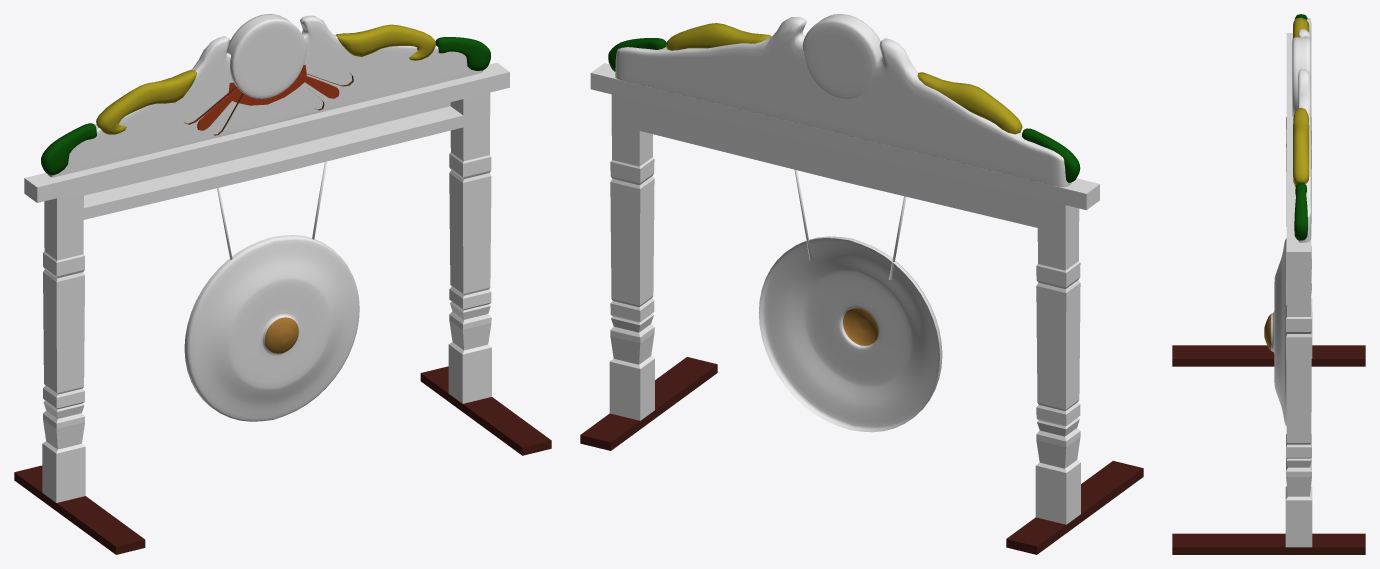
File: gong.fbx
3 renders of one model, left to right at view 1: azimuth 30°, elevation 25°; view 2: azimuth 150°, elevation 25°; view 3: azimuth 270°, elevation 25°, orthographic. The views are drawn at different scales.
Visible parts, largest first — view 1: Cube, Cube.001, Cube.002, Cylinder, Cube.003, Circle, Plane; view 2: Cube, Cube.001, Cube.002, Cylinder, Cube.003, Circle; view 3: Cube, Cube.001, Cube.003, Cube.002, Cylinder, Circle.
Part boxes in pixels (left/top/right/bottom): Cube: left=14, top=62, right=551, bottom=554; Cube.001: left=184, top=235, right=359, bottom=421; Cube.002: left=47, top=15, right=482, bottom=177; Cylinder: left=226, top=14, right=306, bottom=98; Cube.003: left=96, top=24, right=435, bottom=134; Circle: left=41, top=37, right=490, bottom=175; Plane: left=184, top=71, right=353, bottom=135; Cube: left=580, top=63, right=1143, bottom=554; Cube.001: left=758, top=236, right=942, bottom=432; Cube.002: left=615, top=17, right=1071, bottom=187; Cylinder: left=802, top=14, right=881, bottom=98; Cube.003: left=666, top=23, right=1022, bottom=134; Circle: left=608, top=38, right=1080, bottom=182; Cube: left=1172, top=33, right=1365, bottom=554; Cube.001: left=1264, top=238, right=1286, bottom=426; Cube.003: left=1293, top=17, right=1309, bottom=186; Cube.002: left=1298, top=18, right=1311, bottom=242; Cylinder: left=1292, top=37, right=1311, bottom=117; Circle: left=1294, top=14, right=1307, bottom=240.
Bounding box in the file's own units: 1392 × 1223 × 520.
